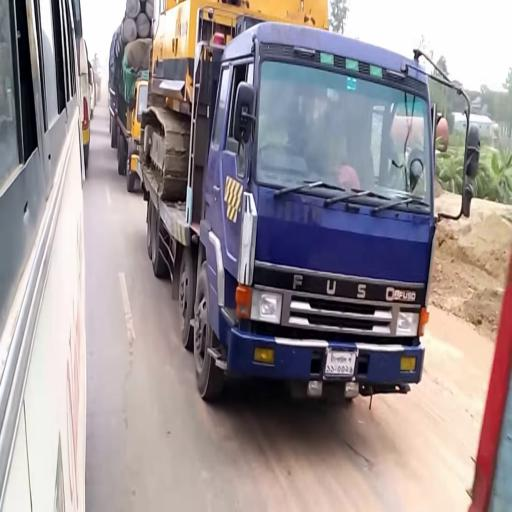bus: (2, 4, 91, 511)
truck: (142, 7, 446, 411), (108, 1, 158, 195)
